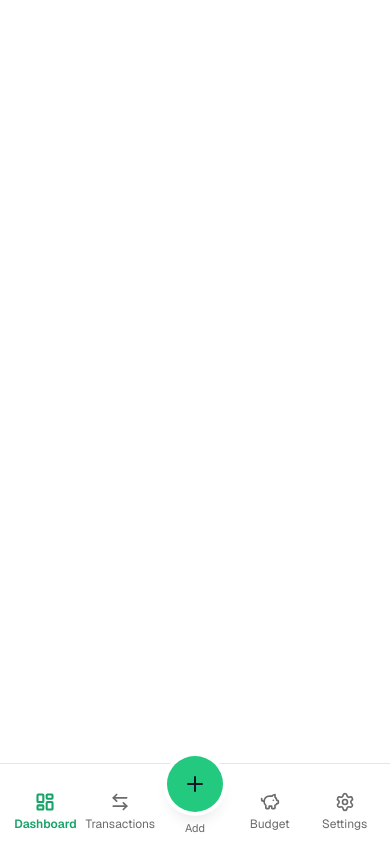
Test: BottomNavFab › opens the Add sheet with three router links when FAB is tapped
The image size is (390, 844).
What coordinates should you click on to do the following:
click the button named "Add"
I would click on:
 (195, 784)
Its box is [167,756,223,812].
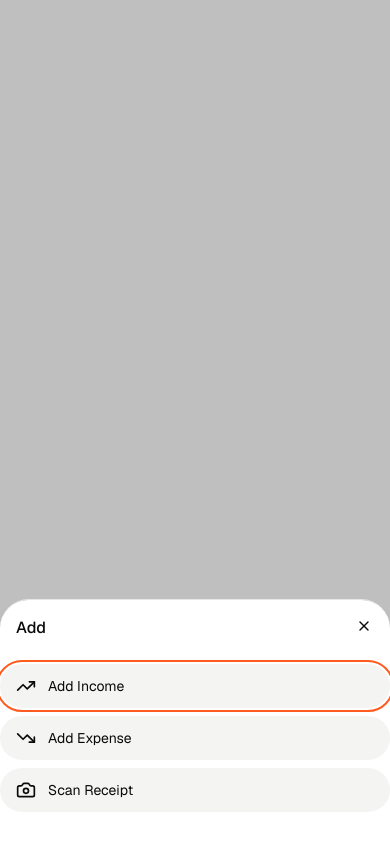
Expected: the text "Add Income" is shown, [48,676,124,696]
Expected: the text "Add Expense" is shown, [48,728,132,748]
Expected: the text "Scan Receipt" is shown, [48,780,133,800]
